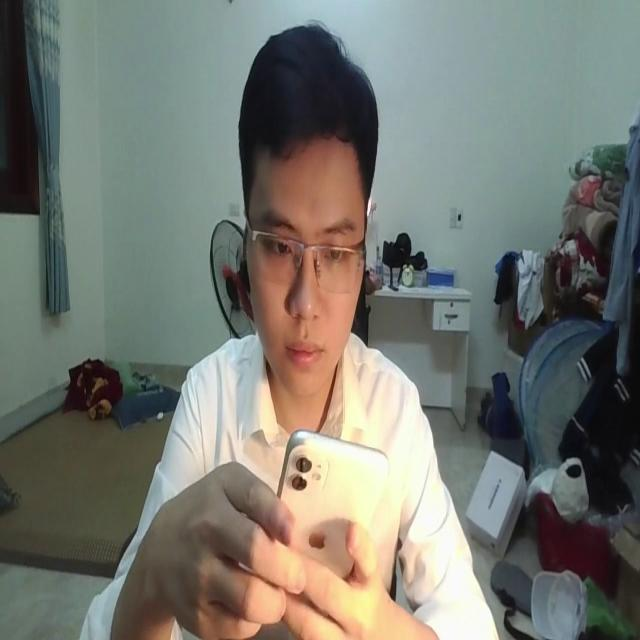phone: (276, 417, 387, 576)
student: (97, 26, 497, 640)
